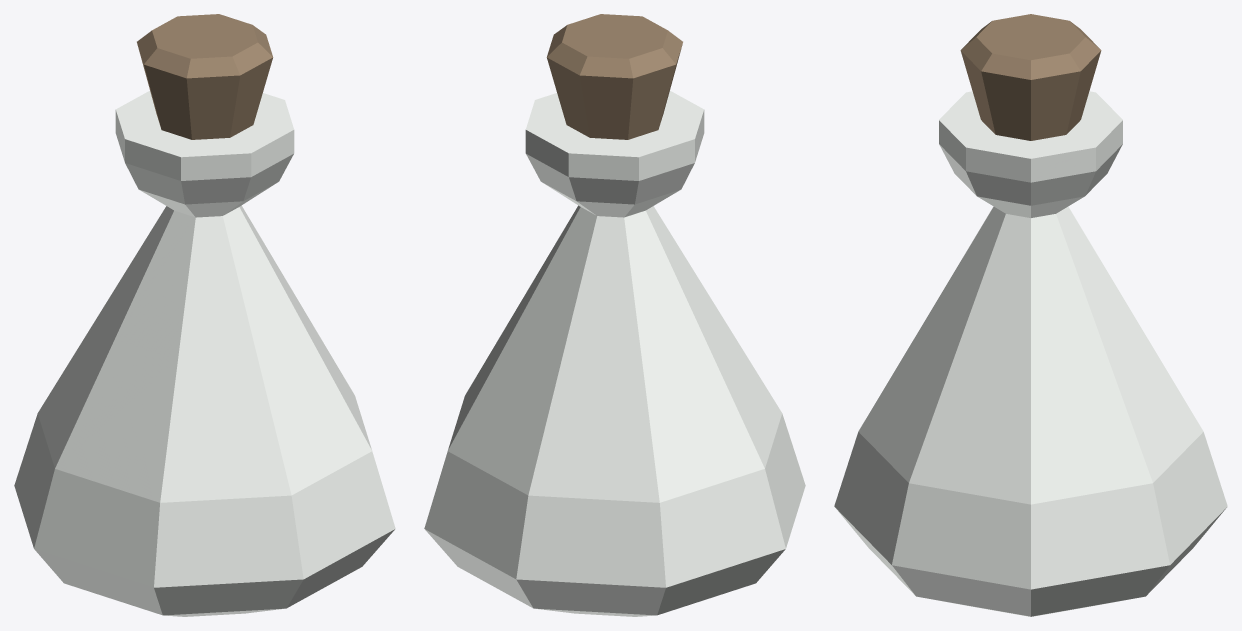
File: fantasy_potion_bottle_1.fbx
3 views of the same model, side by side, from view 1: azimuth 30°, elevation 25°; view 2: azimuth 150°, elevation 25°; view 3: azimuth 270°, elevation 25° (orthographic).
Parts seen in each view (by area): view 1: Cylinder.027, Cylinder.028; view 2: Cylinder.027, Cylinder.028; view 3: Cylinder.027, Cylinder.028.
Part boxes in pixels (x1=…): Cylinder.027: x1=14, y1=91, x2=395, y2=616; Cylinder.028: x1=137, y1=14, x2=273, y2=139; Cylinder.027: x1=424, y1=91, x2=805, y2=616; Cylinder.028: x1=546, y1=14, x2=682, y2=139; Cylinder.027: x1=834, y1=91, x2=1227, y2=616; Cylinder.028: x1=960, y1=14, x2=1101, y2=140.
Bounding box in the file's own units: 18 × 27.58 × 18.
